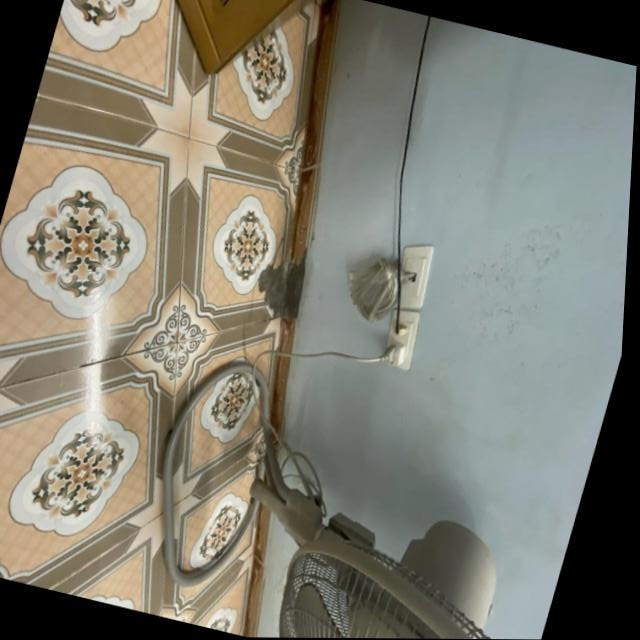outlet: (389, 238, 441, 310), (378, 305, 426, 371)
